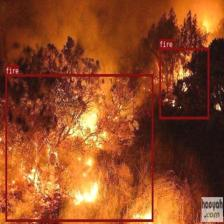fire: (5, 74, 153, 221), (159, 47, 209, 119)
